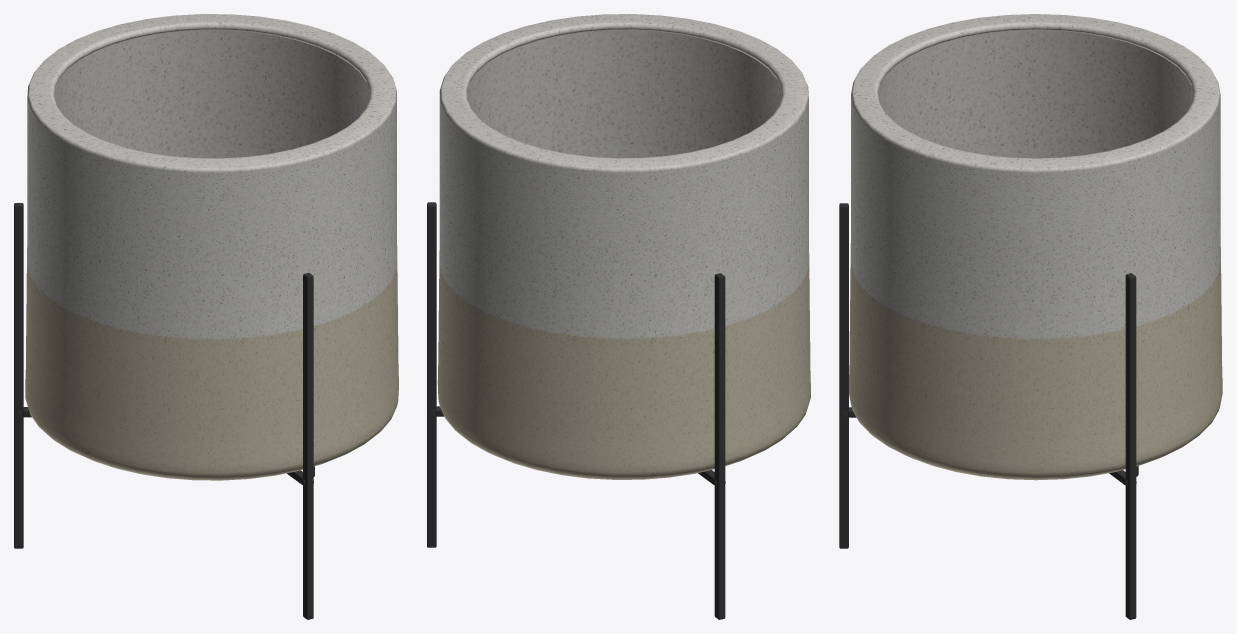
File: planter_B07BZR1KVN.glb
3 renders of one model, left to right at view 1: azimuth 30°, elevation 25°; view 2: azimuth 150°, elevation 25°; view 3: azimuth 270°, elevation 25°, orthographic.
Visible parts, largest first — view 1: RootNode; view 2: RootNode; view 3: RootNode.
Boxes of the visible parts, left/top/right/bottom form: RootNode: left=14, top=14, right=398, bottom=619; RootNode: left=427, top=14, right=810, bottom=619; RootNode: left=839, top=14, right=1222, bottom=619.
Size of the model in its own units: 0.3591 by 0.4844 by 0.3683.
1 material, 1 textured.
